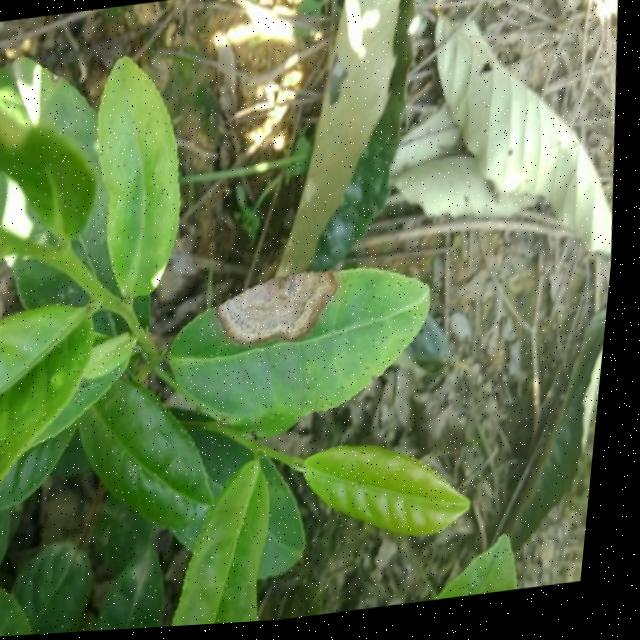Tea cloud leaf blight: (220, 264, 354, 365)
